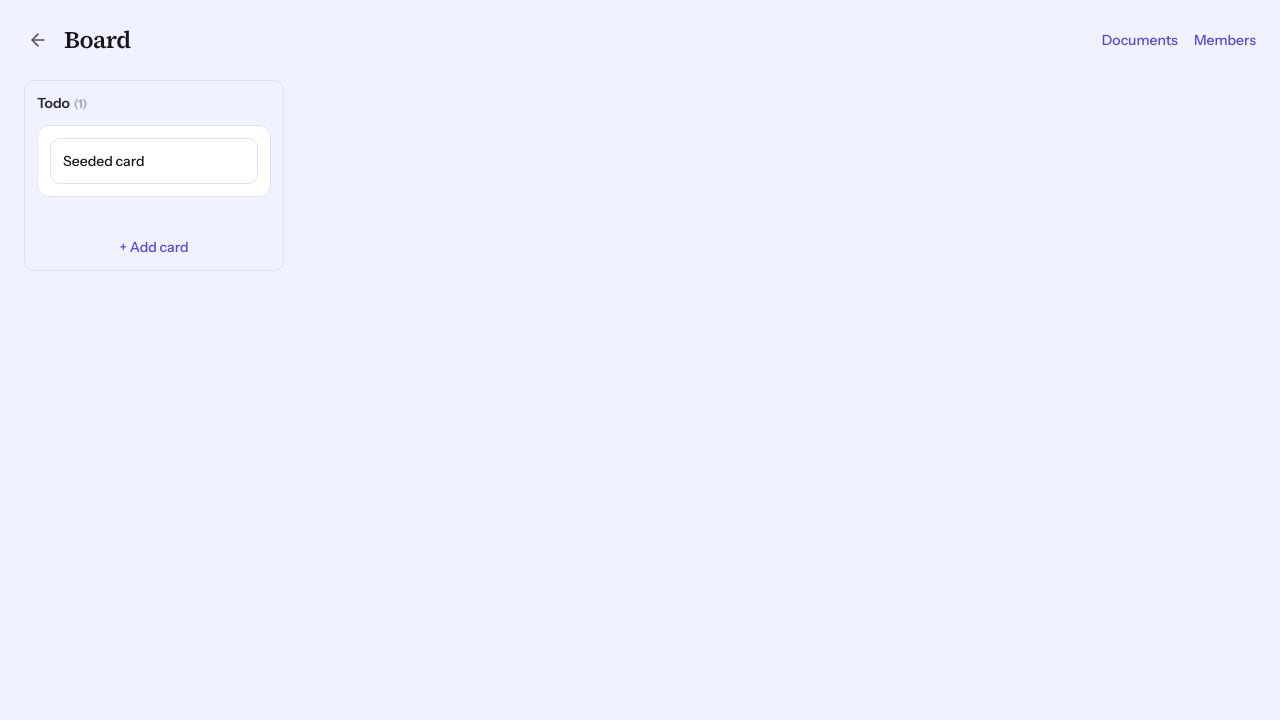
it: Board comments › loads and shows a card's comments when opened
This screenshot has width=1280, height=720.
Click the text "Seeded card": (104, 161) x1=63 y1=152 x2=144 y2=170
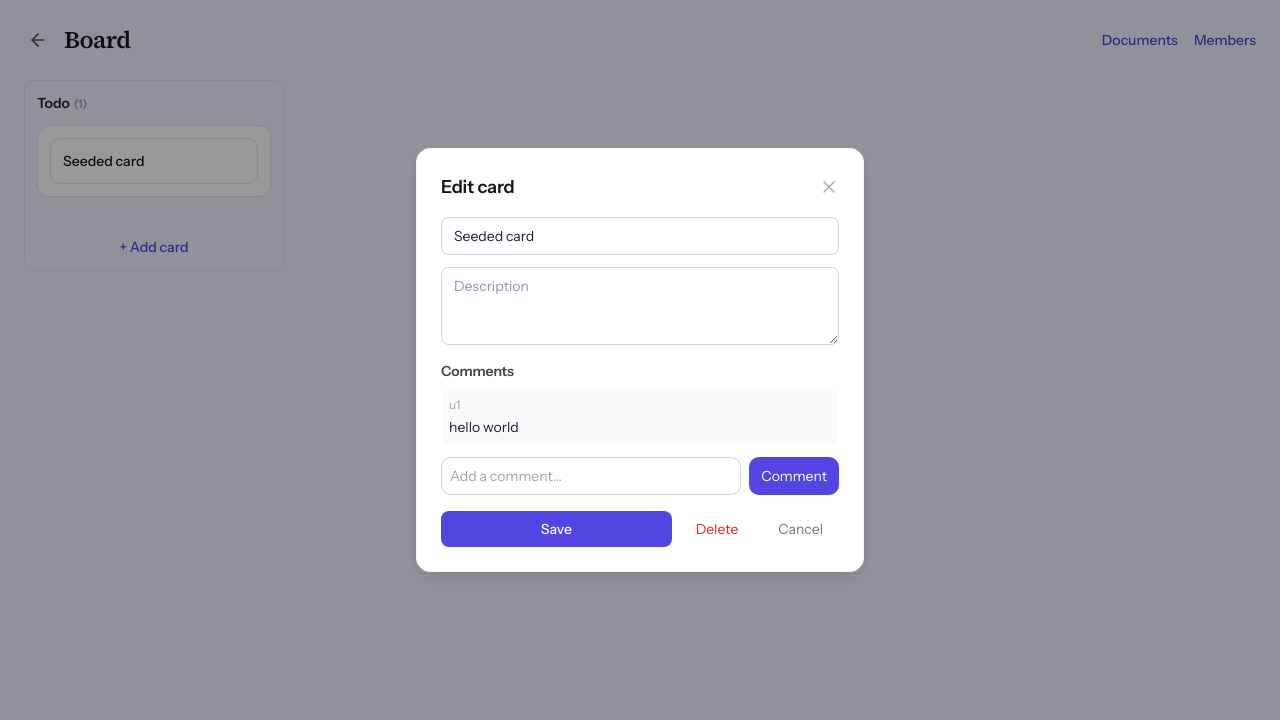
Check: the text "hello world" is shown, box x1=449 y1=418 x2=519 y2=436
